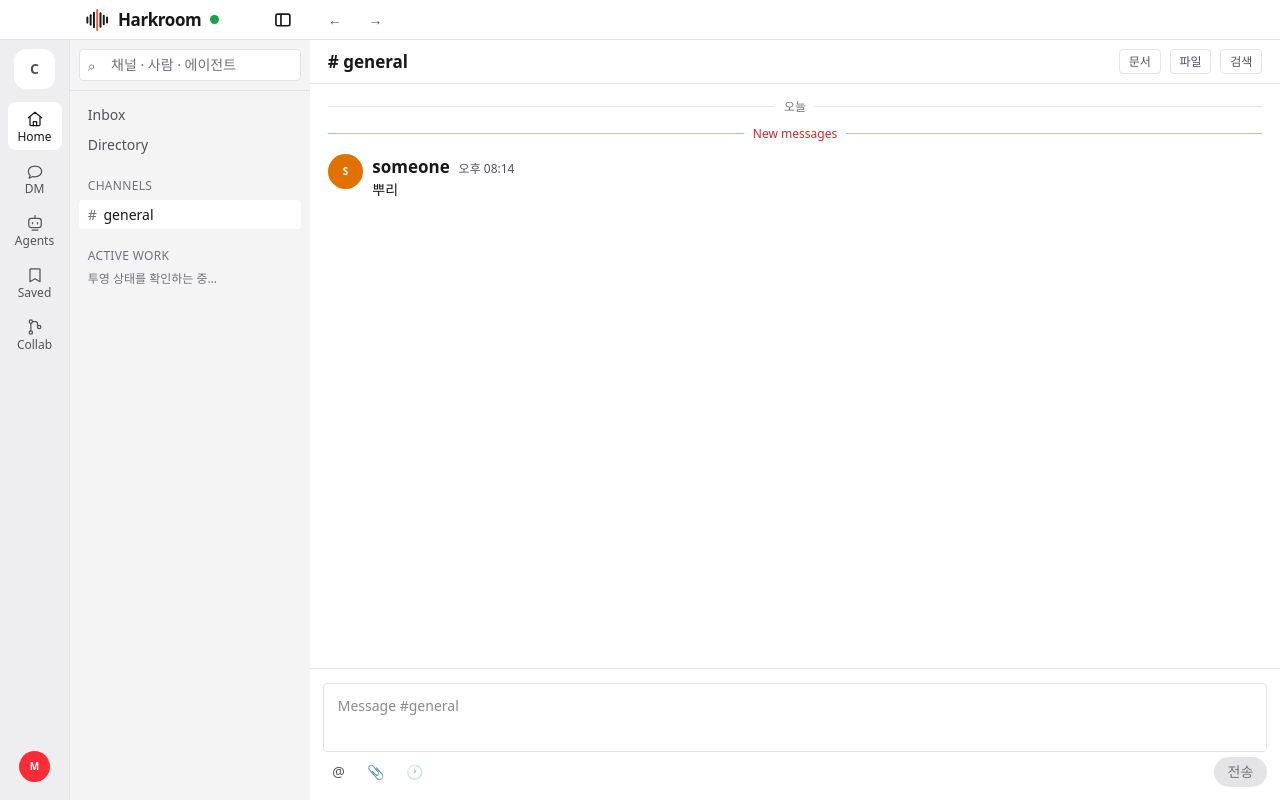
인박스는 자리다 — 모달이 아니다 (#488 C2) › 채널 본문의 말을 누르면 인박스가 자리를 내준다
This screenshot has width=1280, height=800.
Click the button "Inbox" at (190, 115), box top-left (79, 100), bottom-right (301, 130)
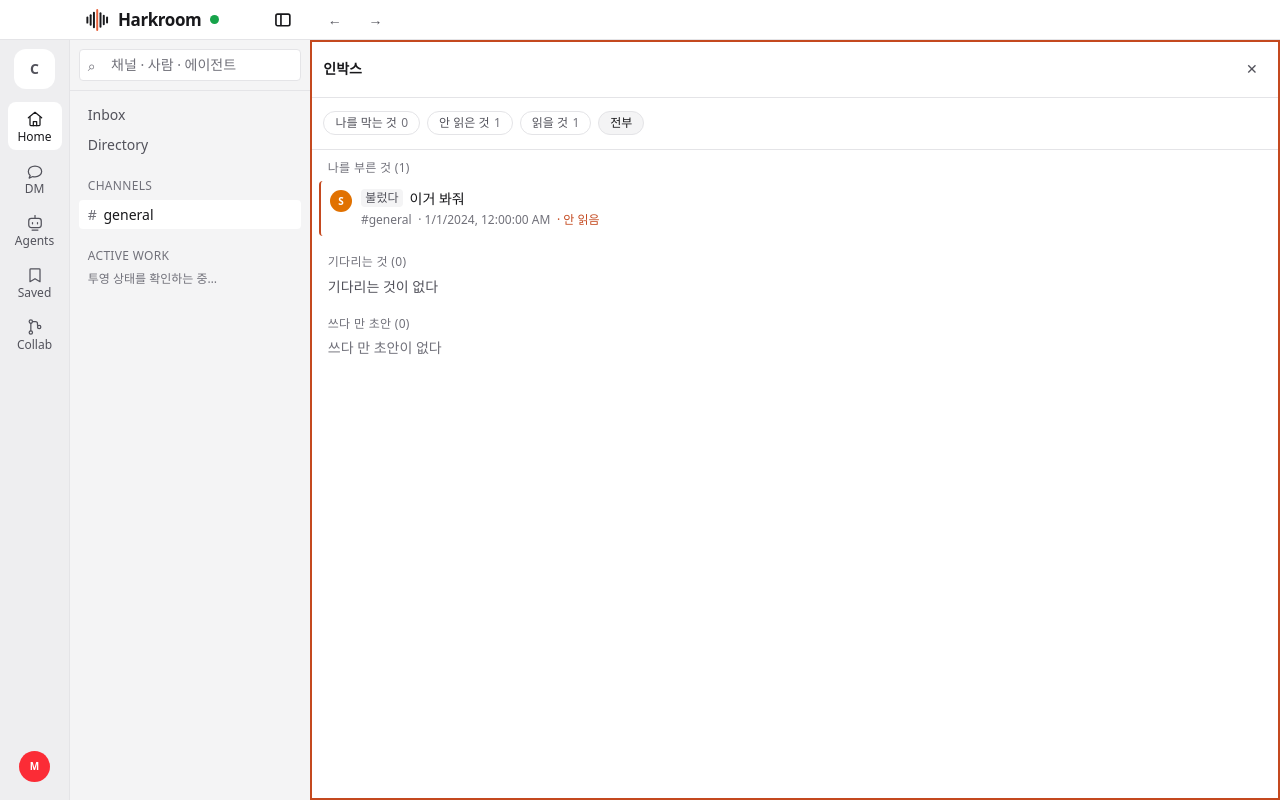
Now the button with test id "inbox-entry-9" is shown
Click the button with test id "inbox-entry-9" at (382, 198), box top-left (319, 181), bottom-right (1271, 236)
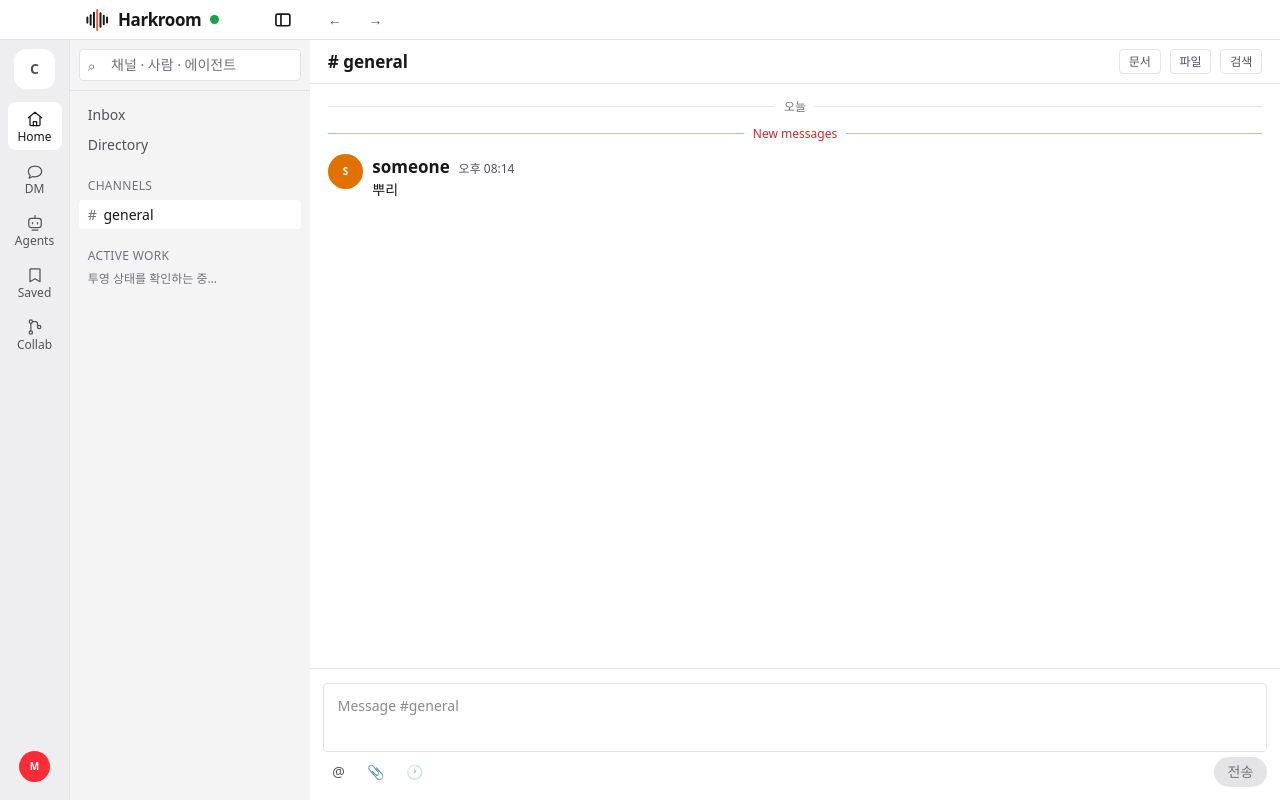
Now the element with test id "inbox-pane" is gone
Now the element with test id "channel-pane" is shown
